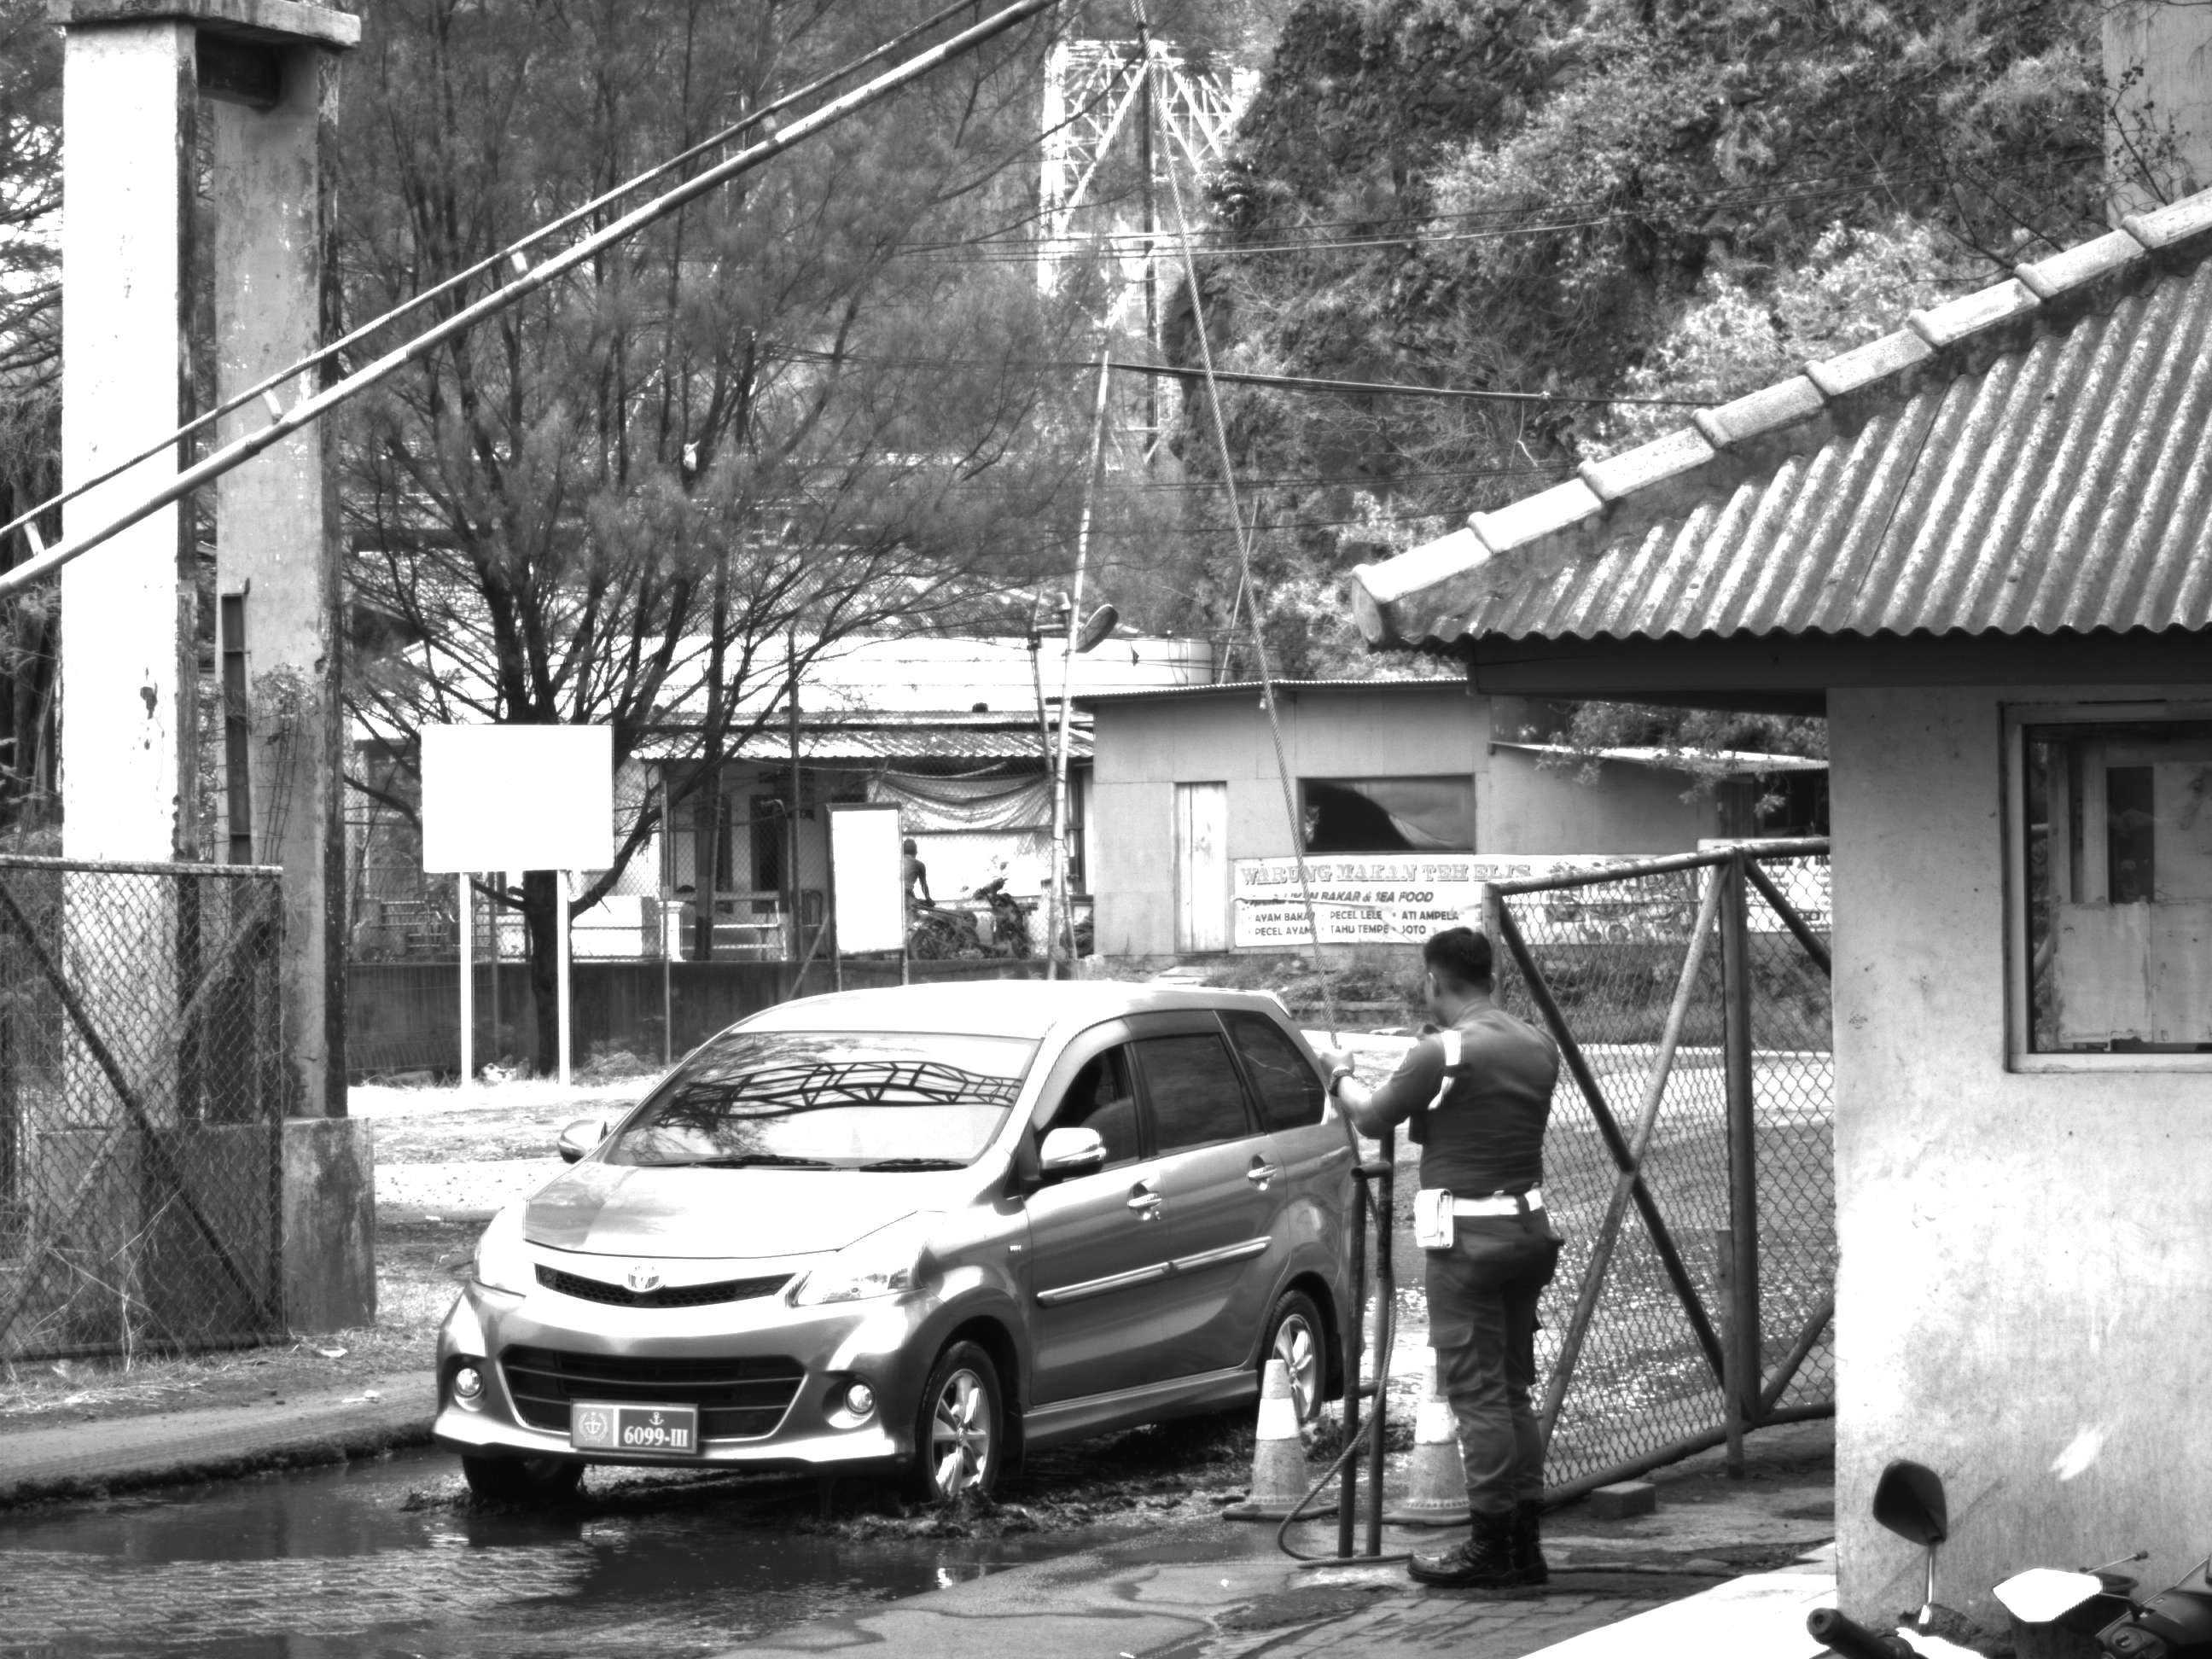day_small_front: (415, 980, 1112, 1528)
plate: (569, 1403, 702, 1459)
